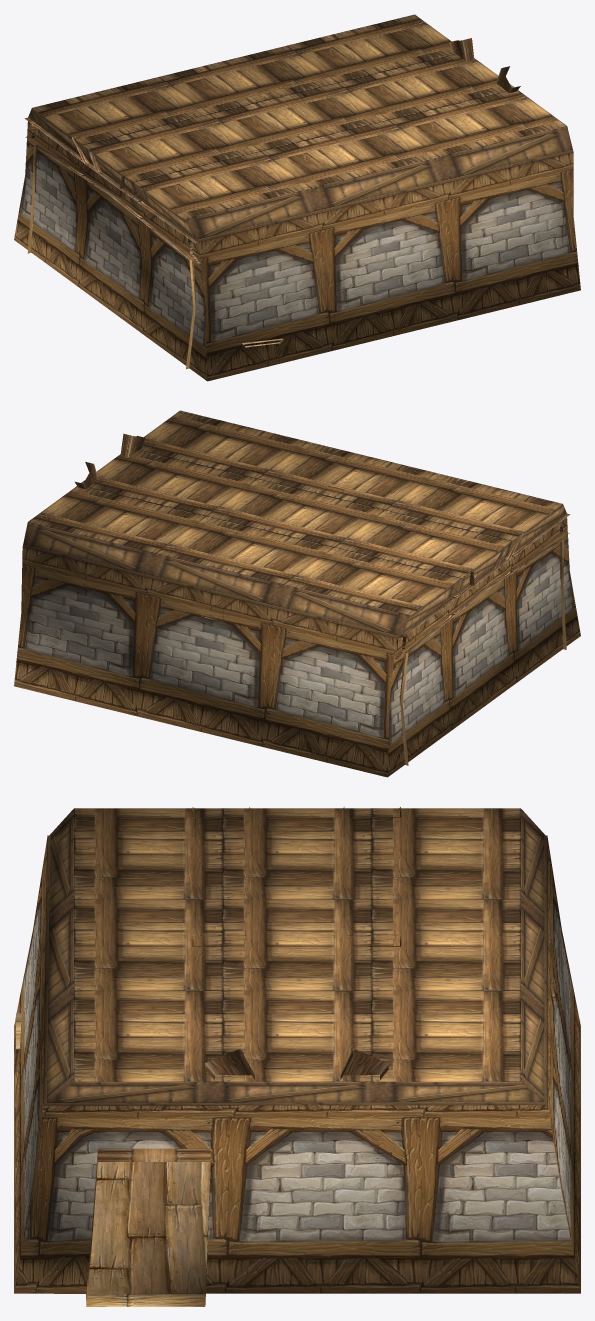
The model's file is stormwind_111.fbx.
The picture shows the model from 3 angles, top to bottom: view 1: azimuth 30°, elevation 25°; view 2: azimuth 150°, elevation 25°; view 3: azimuth 270°, elevation 25°; orthographic projection. The views are drawn at different scales.
Visible parts, largest first — view 1: stormwind_111_87, stormwind_111_55, stormwind_111_56, stormwind_111_53; view 2: stormwind_111_87, stormwind_111_55, stormwind_111_56, stormwind_111_53; view 3: stormwind_111_55, stormwind_111_87, stormwind_111_56, stormwind_111_51, stormwind_111_53, stormwind_111_49.
Boxes of the visible parts, x1,y1,x2,y2 form: stormwind_111_87: (14, 118, 580, 381); stormwind_111_55: (32, 14, 566, 219); stormwind_111_56: (28, 108, 573, 368); stormwind_111_53: (24, 38, 565, 369); stormwind_111_87: (14, 514, 580, 777); stormwind_111_55: (28, 410, 562, 615); stormwind_111_56: (22, 504, 566, 638); stormwind_111_53: (75, 433, 570, 765); stormwind_111_55: (74, 808, 520, 1081); stormwind_111_87: (14, 838, 580, 1293); stormwind_111_56: (14, 809, 547, 1105); stormwind_111_51: (87, 1162, 210, 1293); stormwind_111_53: (18, 807, 554, 1306); stormwind_111_49: (86, 1148, 210, 1304).
Bounding box in the file's own units: 17.76 × 7.12 × 14.96.
